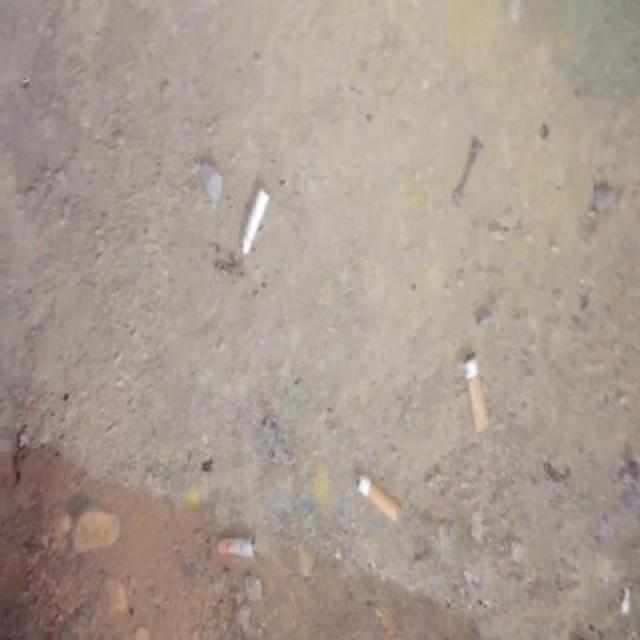non-organic waste: (353, 470, 407, 530), (462, 348, 494, 445), (236, 187, 272, 261)
